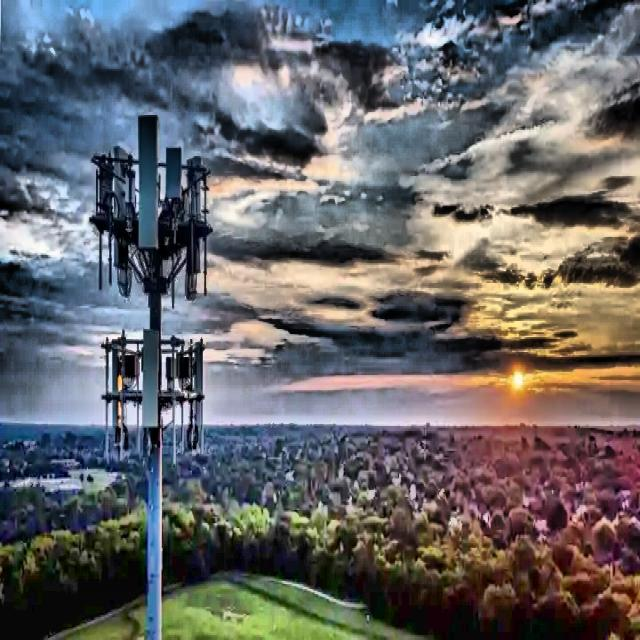antenna: (110, 146, 135, 268), (186, 156, 206, 298), (138, 115, 157, 247), (110, 331, 127, 461), (142, 329, 159, 427), (191, 338, 203, 451)
